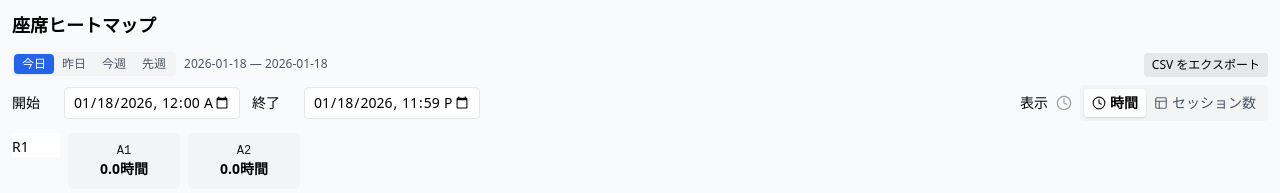
SeatHeatmap component - smoke › clicking 昨日 preset updates the date inputs to yesterday
The image size is (1280, 193).
Click the button "昨日": (74, 64) [54,54,94,74]
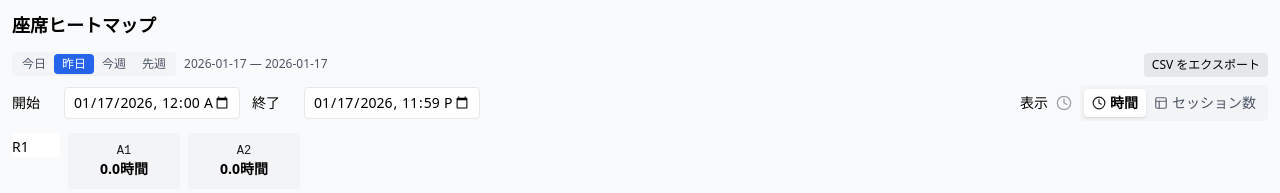
Check: the field named "開始日時" holds "2026-01-17T00:00", box [64,87,240,119]
